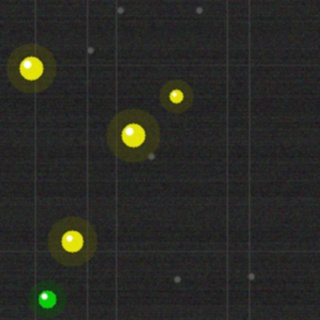green_normal: (36, 288, 58, 310)
yellow_warning: (17, 54, 45, 82), (119, 121, 147, 149), (59, 228, 85, 254), (167, 87, 185, 105)
